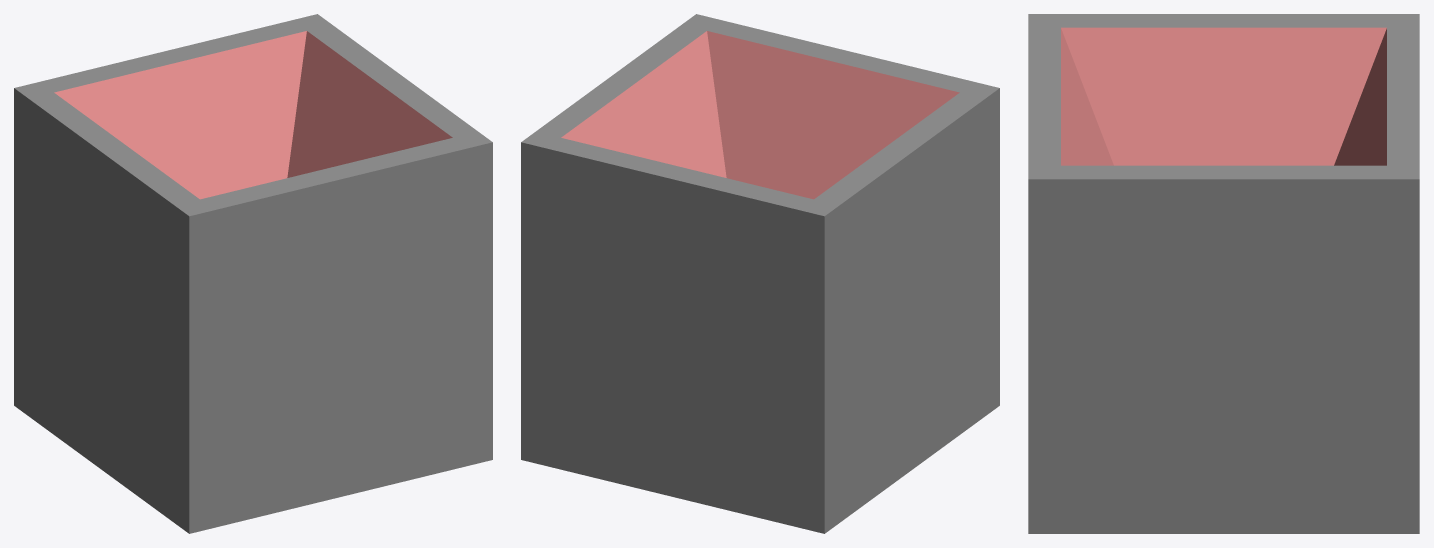
File: SM_ExhaustBrick.gltf
3 renders of one model, left to right at view 1: azimuth 30°, elevation 25°; view 2: azimuth 150°, elevation 25°; view 3: azimuth 270°, elevation 25°, orthographic. The views are drawn at different scales.
Parts seen in each view (by area): view 1: SM_ExhaustBrick; view 2: SM_ExhaustBrick; view 3: SM_ExhaustBrick.
Boxes of the visible parts, box(x1,y1,x2,y2) form: SM_ExhaustBrick: box(14, 14, 492, 533); SM_ExhaustBrick: box(521, 14, 999, 533); SM_ExhaustBrick: box(1028, 14, 1419, 533).
Size of the model in its own units: 0.3 by 0.3 by 0.3.
